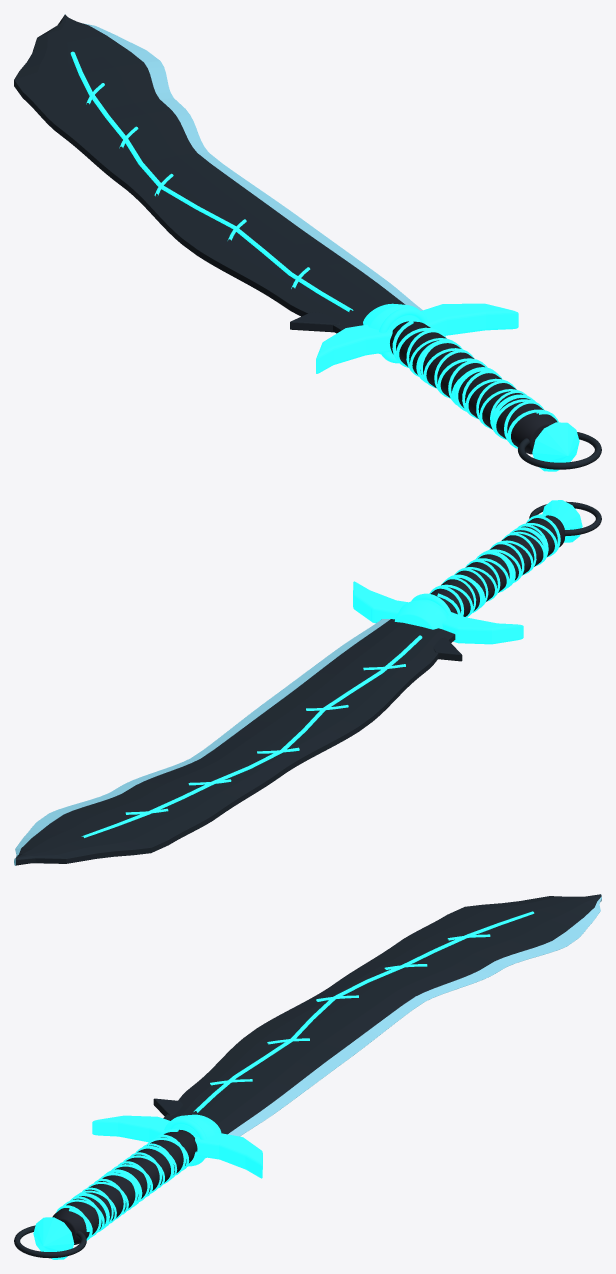
Rendered from tianxuan_dao.glb.
3 renders of one model, top to bottom at view 1: azimuth 30°, elevation 25°; view 2: azimuth 150°, elevation 25°; view 3: azimuth 330°, elevation 25°, orthographic. The views are drawn at different scales.
Visible parts, largest first — view 1: TianxuanBlacksteelBlade, TianxuanGripCore, TianxuanCrescentGuard, TianxuanMainRune, TianxuanWrapB, TianxuanWrapA, TianxuanPommelCrystal, TianxuanPommelHalo, TianxuanBladeCollar, TianxuanSpineHornLeft, TianxuanGuardCore; view 2: TianxuanBlacksteelBlade, TianxuanGripCore, TianxuanCrescentGuard, TianxuanMainRune, TianxuanWrapB, TianxuanWrapA, TianxuanBladeCollar, TianxuanPommelCrystal, TianxuanPommelHalo; view 3: TianxuanBlacksteelBlade, TianxuanGripCore, TianxuanCrescentGuard, TianxuanMainRune, TianxuanWrapB, TianxuanWrapA, TianxuanPommelCrystal, TianxuanPommelHalo, TianxuanBladeCollar.
Boxes of the visible parts, x1,y1,x2,y2 form: TianxuanBlacksteelBlade: (14, 14, 422, 333); TianxuanGripCore: (390, 321, 557, 454); TianxuanCrescentGuard: (316, 303, 518, 373); TianxuanMainRune: (70, 51, 353, 311); TianxuanWrapB: (392, 320, 554, 448); TianxuanWrapA: (396, 327, 558, 446); TianxuanPommelCrystal: (532, 422, 579, 471); TianxuanPommelHalo: (518, 432, 601, 469); TianxuanBladeCollar: (363, 303, 420, 354); TianxuanSpineHornLeft: (290, 312, 339, 332); TianxuanGuardCore: (379, 307, 428, 363); TianxuanBlacksteelBlade: (14, 619, 455, 865); TianxuanGripCore: (430, 515, 565, 616); TianxuanCrescentGuard: (353, 581, 523, 644); TianxuanMainRune: (81, 635, 422, 837); TianxuanWrapB: (429, 513, 557, 616); TianxuanWrapA: (434, 515, 560, 617); TianxuanBladeCollar: (394, 599, 447, 629); TianxuanPommelCrystal: (542, 500, 582, 542); TianxuanPommelHalo: (529, 501, 601, 535); TianxuanBlacksteelBlade: (163, 894, 601, 1136); TianxuanGripCore: (52, 1129, 197, 1244); TianxuanCrescentGuard: (92, 1115, 262, 1178); TianxuanMainRune: (193, 911, 534, 1112); TianxuanWrapB: (63, 1128, 189, 1240); TianxuanWrapA: (56, 1134, 198, 1237); TianxuanPommelCrystal: (33, 1217, 74, 1259); TianxuanPommelHalo: (14, 1225, 86, 1258); TianxuanBladeCollar: (171, 1114, 221, 1158).
Bounding box in the file's own units: 0.293 × 0.076 × 1.49.
